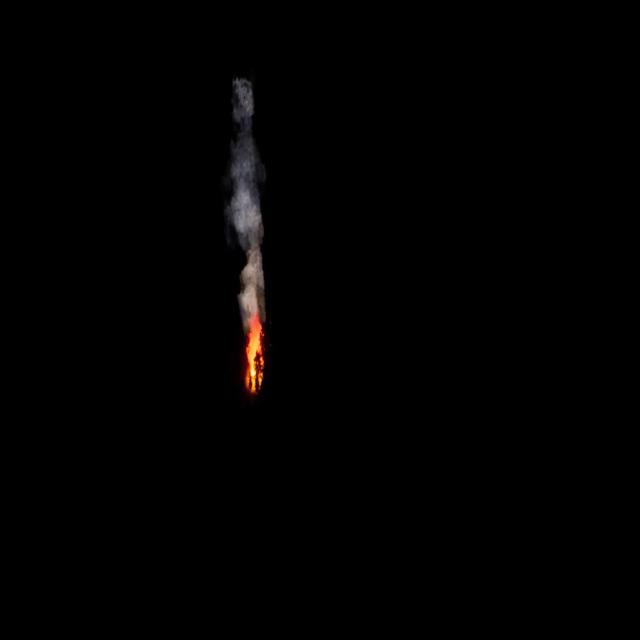fire: (241, 306, 267, 392)
smoke: (226, 77, 266, 310)
